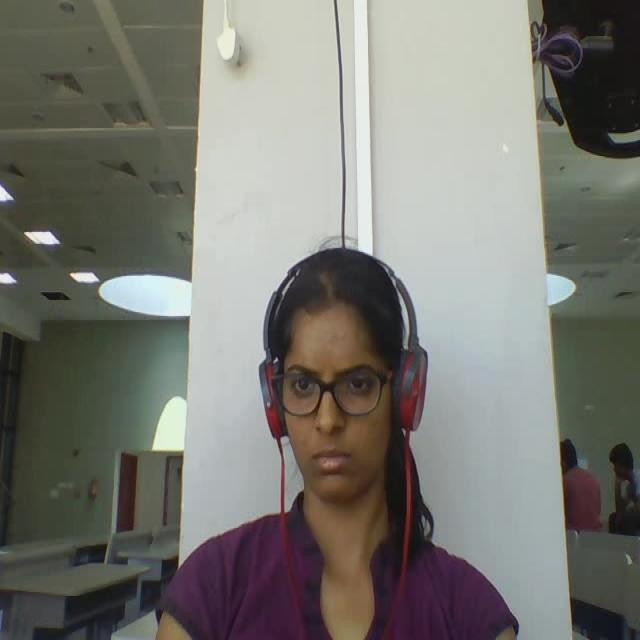Engaged: (240, 240, 470, 556)
